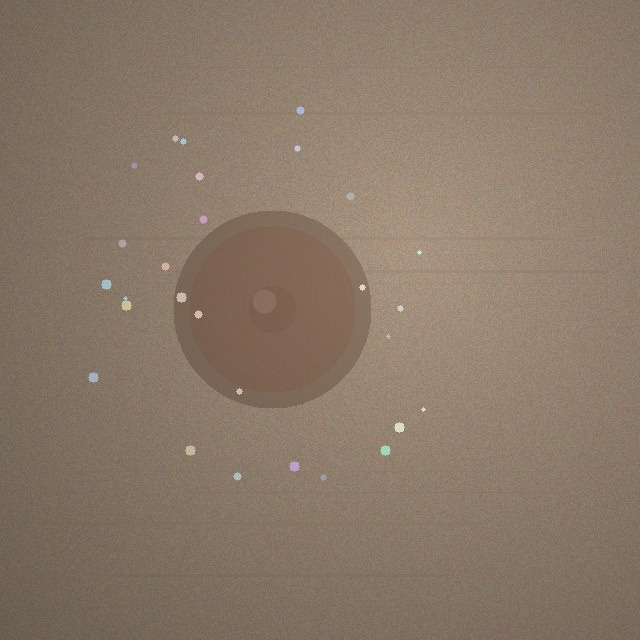overburn: (173, 210, 371, 408)
